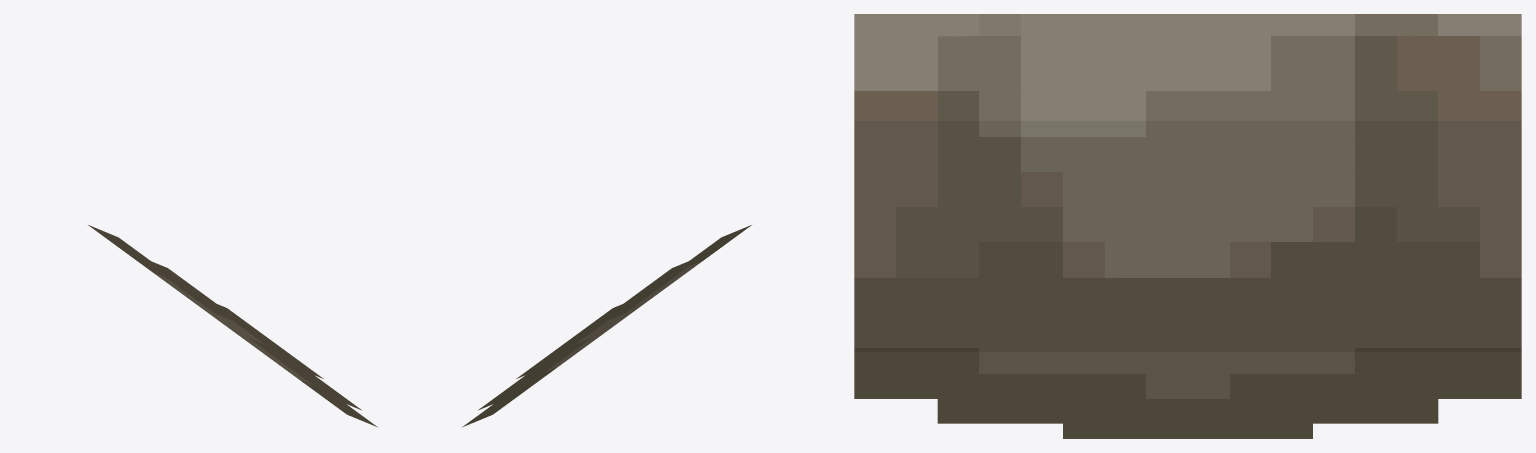
The picture shows the model from 3 angles, left to right: view 1: azimuth 30°, elevation 25°; view 2: azimuth 150°, elevation 25°; view 3: azimuth 270°, elevation 25°; orthographic projection. The views are drawn at different scales.
Bounding box in the file's own units: 0.293 × 0.5662 × 1.
Materials: 1 (1 with a texture image).
